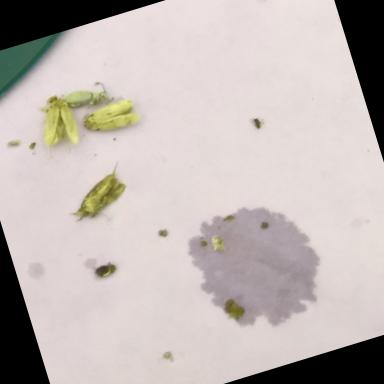abw: (32, 90, 82, 150), (78, 94, 140, 136)
pbw: (56, 157, 132, 226)
